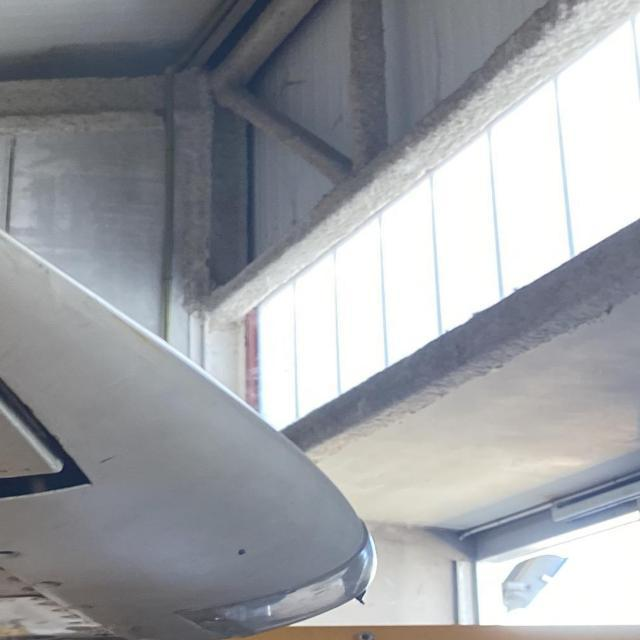Missing-head: (34, 579, 64, 590), (0, 549, 23, 561)
